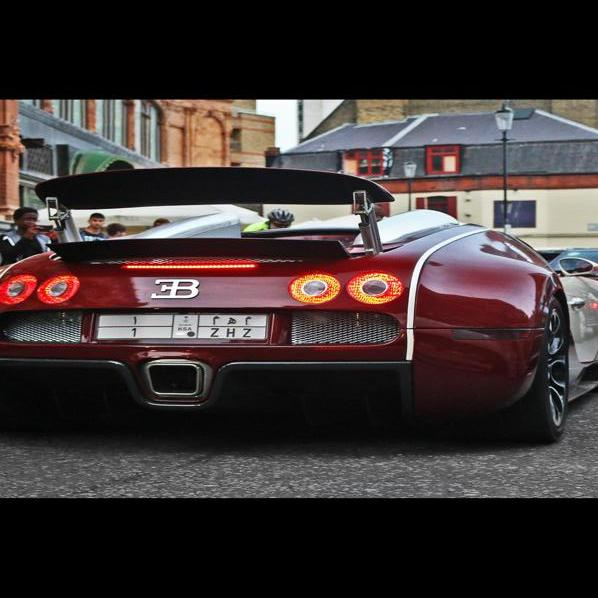numberplate: (97, 312, 272, 339)
